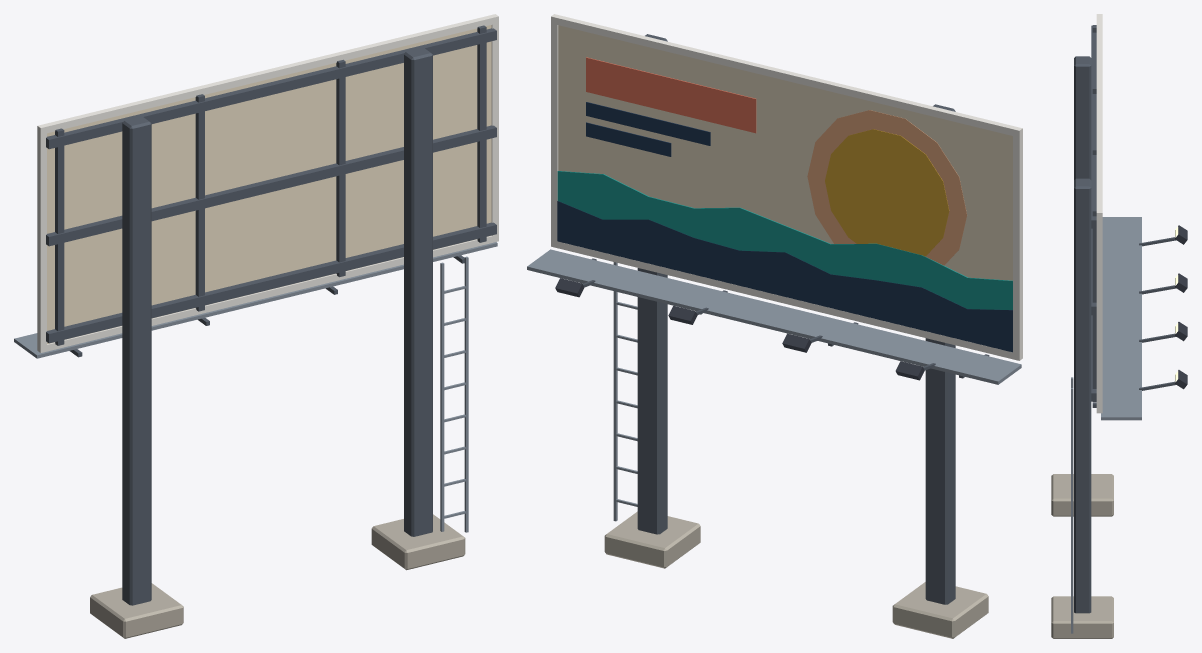
File: billboard.glb
3 views of the same model, side by side, from view 1: azimuth 30°, elevation 25°; view 2: azimuth 150°, elevation 25°; view 3: azimuth 270°, elevation 25° (orthographic). The views are drawn at different scales.
Parts seen in each view (by area): view 1: billboard; view 2: billboard; view 3: billboard.
Part boxes in pixels (<box>): billboard: <box>14,14,498,638</box>; billboard: <box>527,14,1022,638</box>; billboard: <box>1051,14,1187,638</box>.
Bounding box in the file's own units: 7.2 × 7.58 × 2.07.
